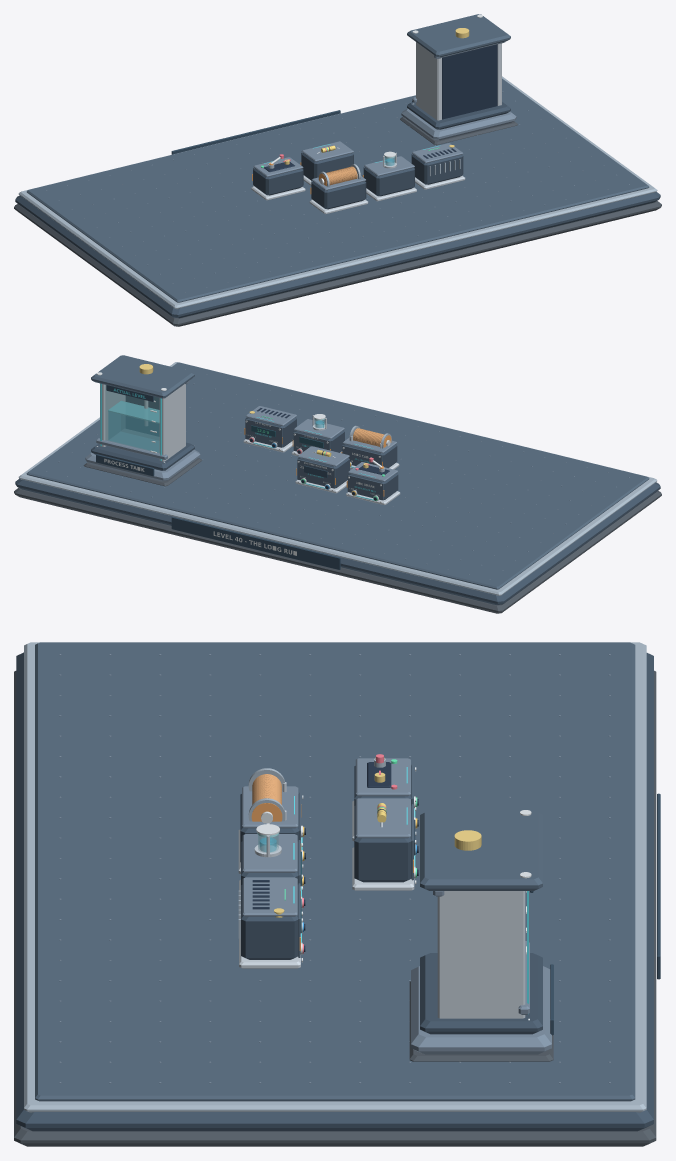
The model's file is Level40_Complete_Display_Assembly.fbx.
The picture shows the model from 3 angles, top to bottom: view 1: azimuth 30°, elevation 25°; view 2: azimuth 150°, elevation 25°; view 3: azimuth 270°, elevation 25°; orthographic projection. The views are drawn at different scales.
Visible parts, largest first — view 1: 00_Board_Optional_Display__BOARD_Pegboard_Mat, 00_Board_Optional_Display__BOARD_Graphite_Workbench, 00_Board_Optional_Display__BOARD_Black_RubberUnderlay, 00_Board_Optional_Display__BOARD_Steel_Frame, 06_Process_Tank__TANK_Back_Interior, 06_Process_Tank__TANK_Industrial_TopCover, 06_Process_Tank__TANK_GuidePillar_-0.91, 06_Process_Tank__TANK_Base_CastSteel, 03_50_350Ohm_Cable__CABLE_Chassis, 01_12V_Supply__PSU_Chassis, 02_4to20mA_Transmitter__TX_Chassis, 06_Process_Tank__TANK_Outer_Pedestal (+7 smaller); view 2: 00_Board_Optional_Display__BOARD_Pegboard_Mat, 00_Board_Optional_Display__BOARD_Graphite_Workbench, 00_Board_Optional_Display__BOARD_Black_RubberUnderlay, 00_Board_Optional_Display__BOARD_Steel_Frame, 06_Process_Tank__TANK_Transparent_Front_Wall, 06_Process_Tank__TANK_Industrial_TopCover, 00_Board_Optional_Display__BOARD_Front_Black_Plate, 06_Process_Tank__TANK_GuidePillar_-0.91, 06_Process_Tank__TANK_Backlit_Water_Volume__ANIMATE_LEVEL, 06_Process_Tank__TANK_Outer_Pedestal, 06_Process_Tank__TANK_Base_CastSteel, 05_250Ohm_Receiver__RX_Front_Console_Plate (+13 smaller); view 3: 00_Board_Optional_Display__BOARD_Pegboard_Mat, 00_Board_Optional_Display__BOARD_Graphite_Workbench, 00_Board_Optional_Display__BOARD_Steel_Frame, 00_Board_Optional_Display__BOARD_Black_RubberUnderlay, 06_Process_Tank__TANK_GuidePillar_+0.91, 06_Process_Tank__TANK_Industrial_TopCover, 06_Process_Tank__TANK_Base_CastSteel, 06_Process_Tank__TANK_Outer_Pedestal, 05_250Ohm_Receiver__RX_Chassis, 01_12V_Supply__PSU_Chassis, 05_250Ohm_Receiver__RX_Top_Lid, 01_12V_Supply__PSU_Top_Lid (+6 smaller).
Part boxes in pixels (x1,y1,x2,y2): 00_Board_Optional_Display__BOARD_Pegboard_Mat: (26,78,649,302); 00_Board_Optional_Display__BOARD_Graphite_Workbench: (15,192,660,318); 00_Board_Optional_Display__BOARD_Black_RubberUnderlay: (14,201,661,326); 00_Board_Optional_Display__BOARD_Steel_Frame: (18,76,657,309); 06_Process_Tank__TANK_Back_Interior: (442,44,497,119); 06_Process_Tank__TANK_Industrial_TopCover: (407,14,510,57); 06_Process_Tank__TANK_GuidePillar_-0.91: (416,42,441,120); 06_Process_Tank__TANK_Base_CastSteel: (401,108,516,140); 03_50_350Ohm_Cable__CABLE_Chassis: (311,181,366,209); 01_12V_Supply__PSU_Chassis: (411,154,463,184); 02_4to20mA_Transmitter__TX_Chassis: (364,167,414,196); 06_Process_Tank__TANK_Outer_Pedestal: (407,102,510,129); 00_Board_Optional_Display__BOARD_Pegboard_Mat: (26,362,649,589); 00_Board_Optional_Display__BOARD_Graphite_Workbench: (15,478,660,604); 00_Board_Optional_Display__BOARD_Black_RubberUnderlay: (14,487,661,613); 00_Board_Optional_Display__BOARD_Steel_Frame: (18,362,657,595); 06_Process_Tank__TANK_Transparent_Front_Wall: (104,385,159,452); 06_Process_Tank__TANK_Industrial_TopCover: (91,355,194,398); 00_Board_Optional_Display__BOARD_Front_Black_Plate: (171,516,340,569); 06_Process_Tank__TANK_GuidePillar_-0.91: (159,384,185,461); 06_Process_Tank__TANK_Backlit_Water_Volume__ANIMATE_LEVEL: (108,412,159,452); 06_Process_Tank__TANK_Outer_Pedestal: (91,442,194,470); 06_Process_Tank__TANK_Base_CastSteel: (85,449,200,481); 05_250Ohm_Receiver__RX_Front_Console_Plate: (297,459,335,488); 00_Board_Optional_Display__BOARD_Pegboard_Mat: (35,642,635,1101); 00_Board_Optional_Display__BOARD_Graphite_Workbench: (16,652,653,1131); 00_Board_Optional_Display__BOARD_Steel_Frame: (24,642,646,1112); 00_Board_Optional_Display__BOARD_Black_RubberUnderlay: (14,670,656,1146); 06_Process_Tank__TANK_GuidePillar_+0.91: (437,891,525,1018); 06_Process_Tank__TANK_Industrial_TopCover: (420,811,542,890); 06_Process_Tank__TANK_Base_CastSteel: (411,966,551,1054); 06_Process_Tank__TANK_Outer_Pedestal: (420,953,542,1034); 05_250Ohm_Receiver__RX_Chassis: (354,805,411,882); 01_12V_Supply__PSU_Chassis: (241,884,298,959); 05_250Ohm_Receiver__RX_Top_Lid: (355,798,410,838); 01_12V_Supply__PSU_Top_Lid: (242,877,297,916).
Size of the model in its own units: 11.9 by 2.71 by 6.91.
